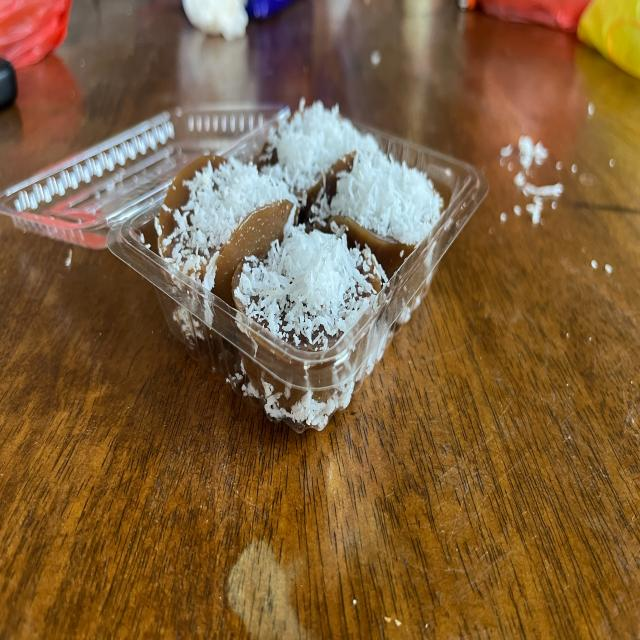Kuih lompang: (158, 156, 296, 307), (232, 224, 386, 349), (324, 147, 450, 278)
